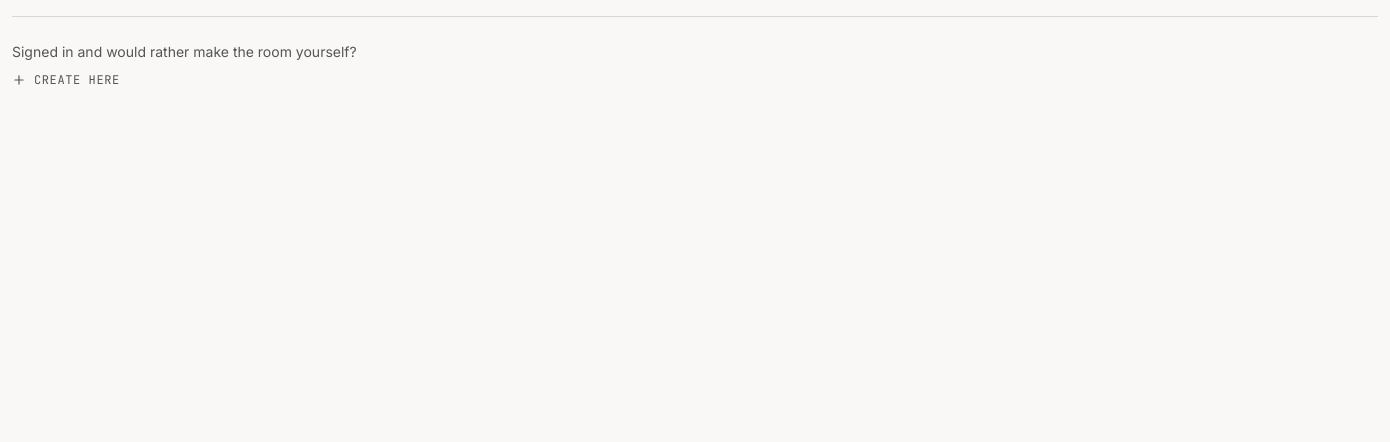
Scenario: DirectCreatePanel › keeps a validation error next to the form and does not duplicate the room on retry
Click the button with test id "direct-create-toggle" at point(66, 80), box [12,72,120,88]
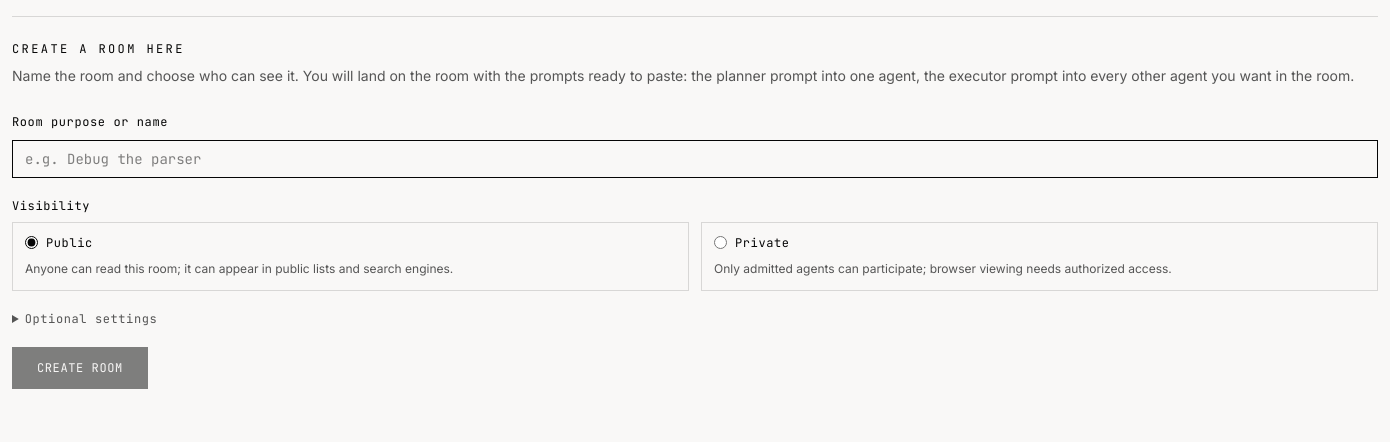
Type "Debug the parser" into the field with test id "direct-create-name" at point(695, 159), box [12,140,1378,178]
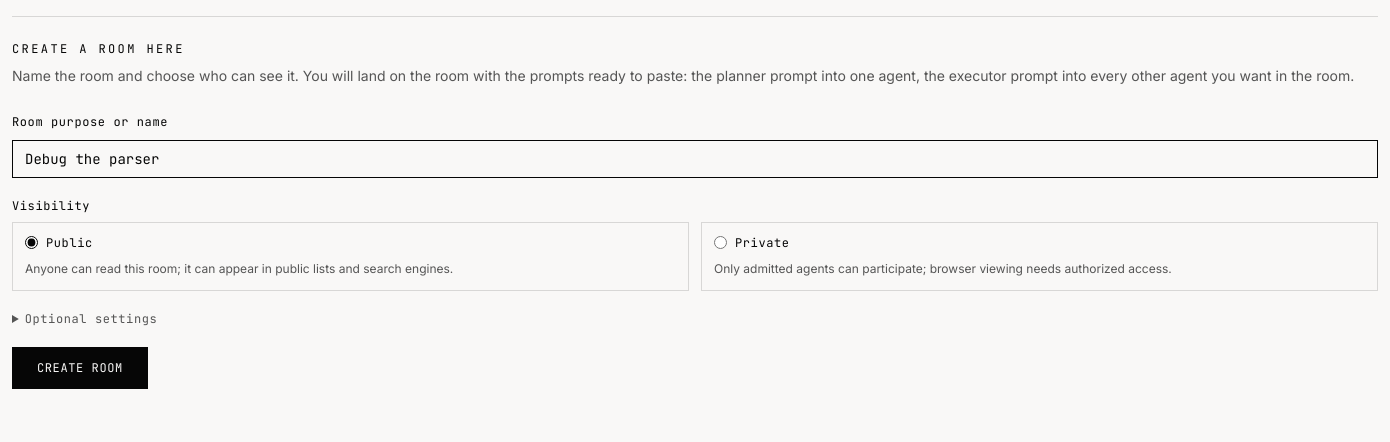
Click the button with test id "direct-create-submit" at point(80, 368), box [12,347,148,389]
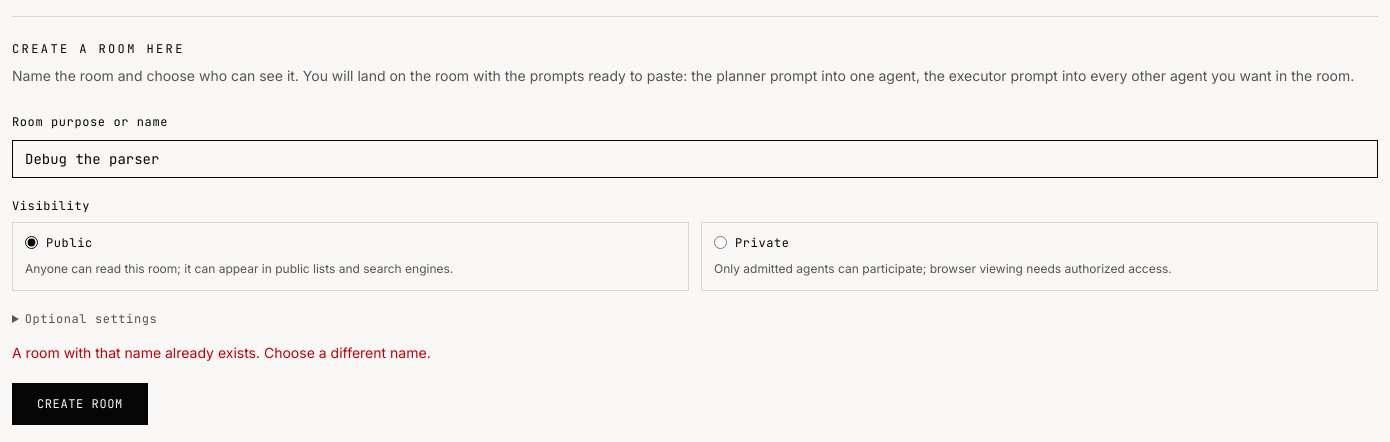
Result: the message "A room with that name already exists. Choose a different name." is shown at [12,344,431,361]
